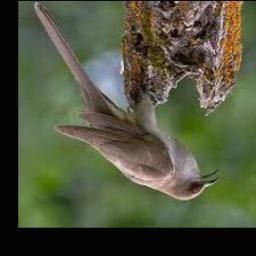Cuckoo: (34, 4, 221, 200)
